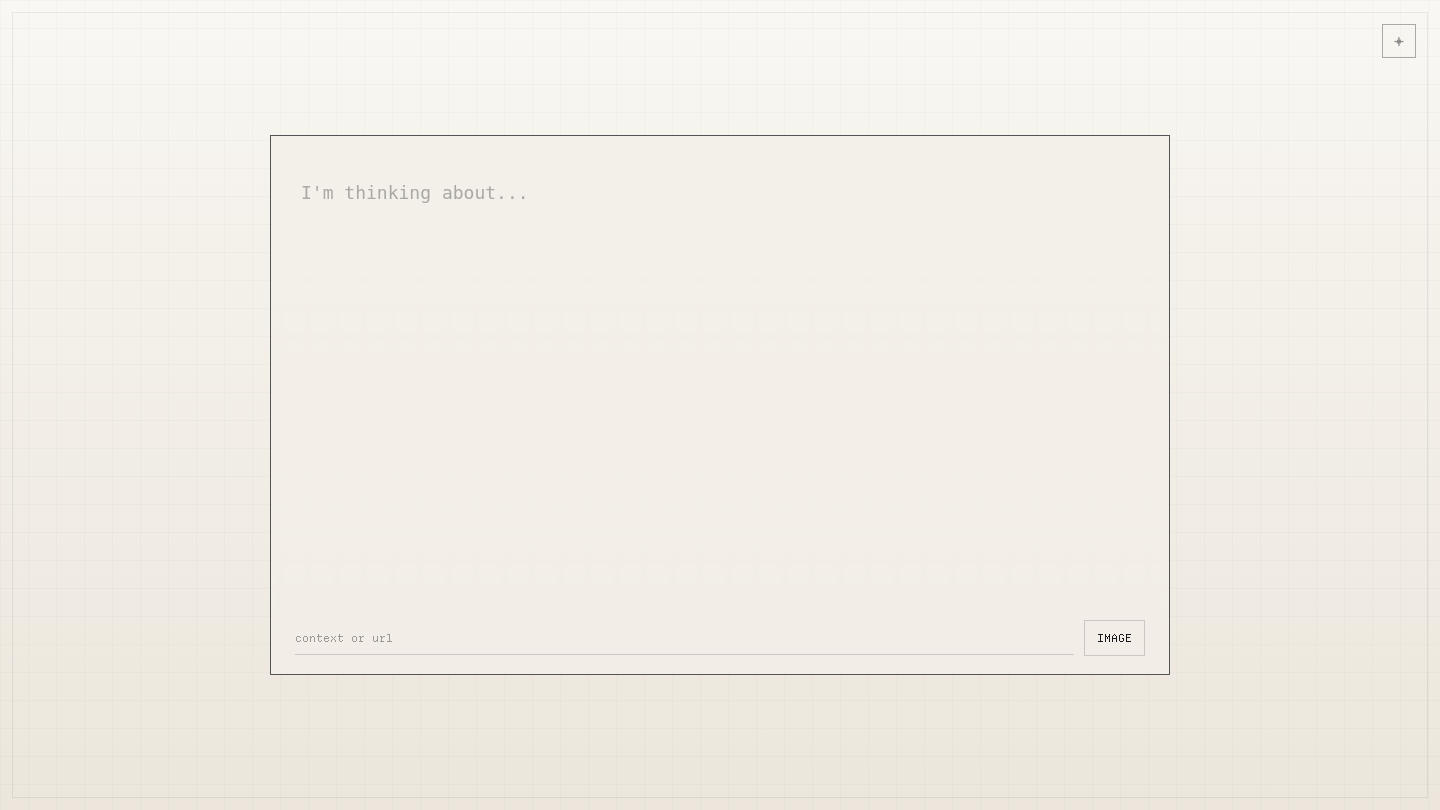
notes panel renders a search field and requests matches
Press ArrowDown
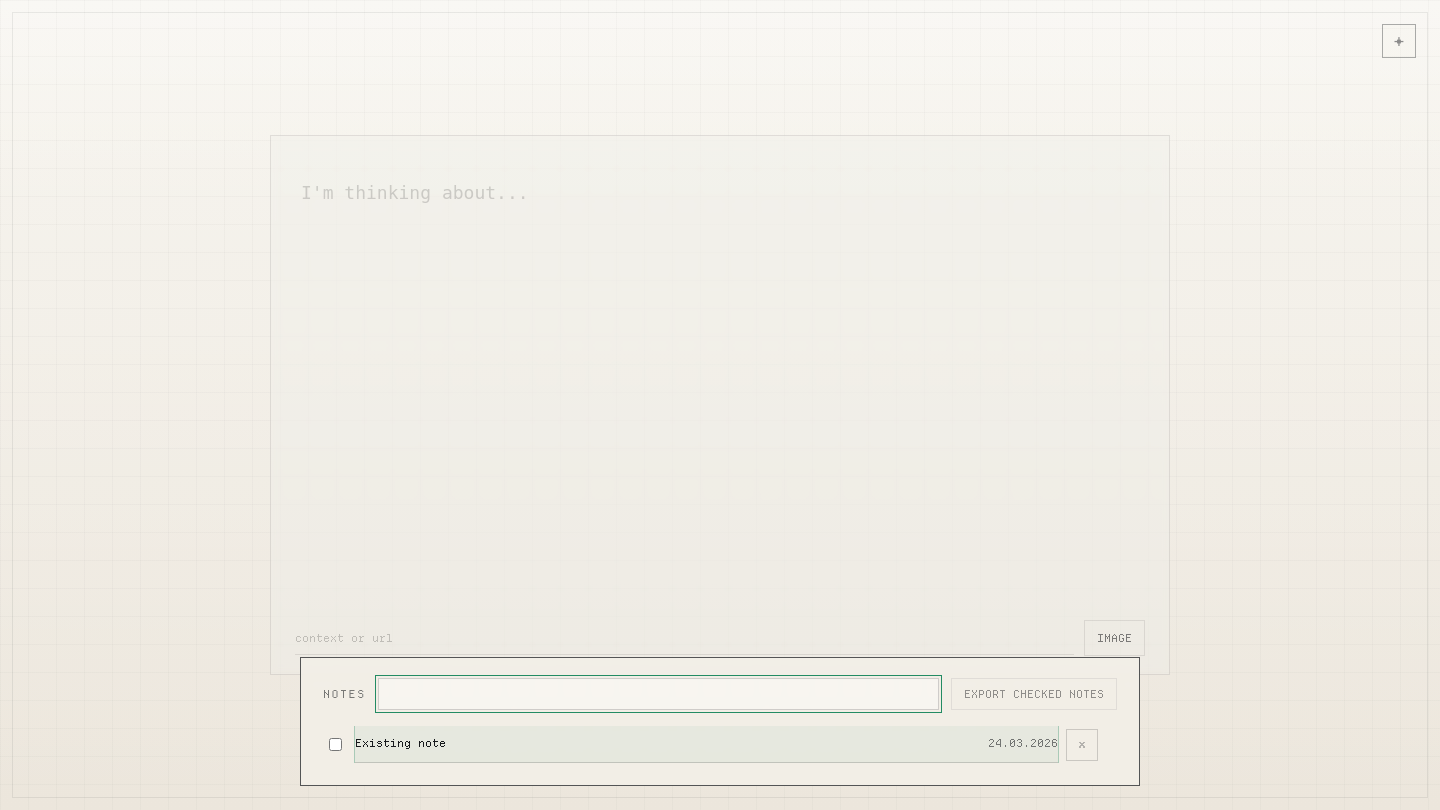
In the search field named "Search notes": [658, 694] box left=378, top=678, right=939, bottom=710, type "crypto"
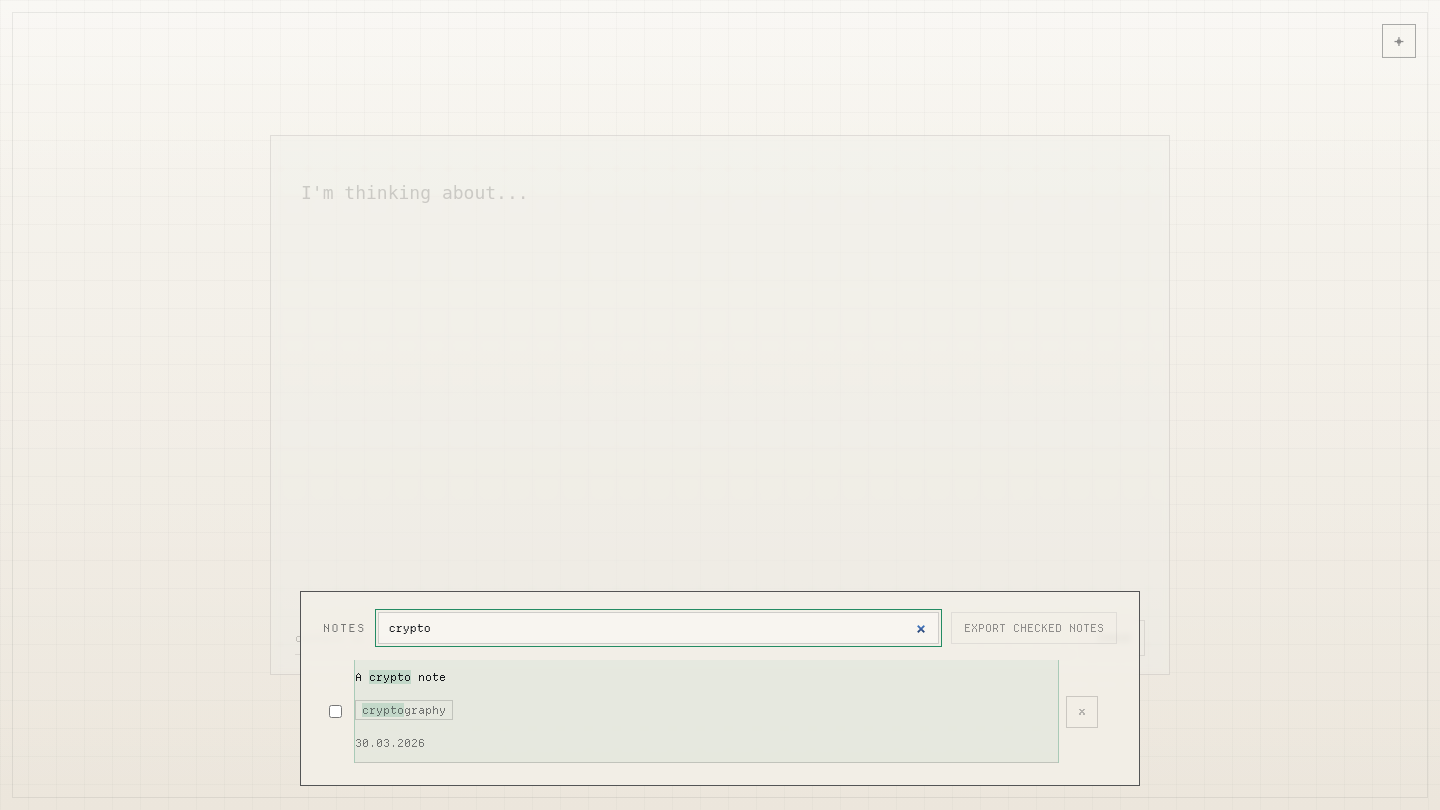
Expected: the 1st text "crypto" is shown, left=369, top=670, right=411, bottom=684
